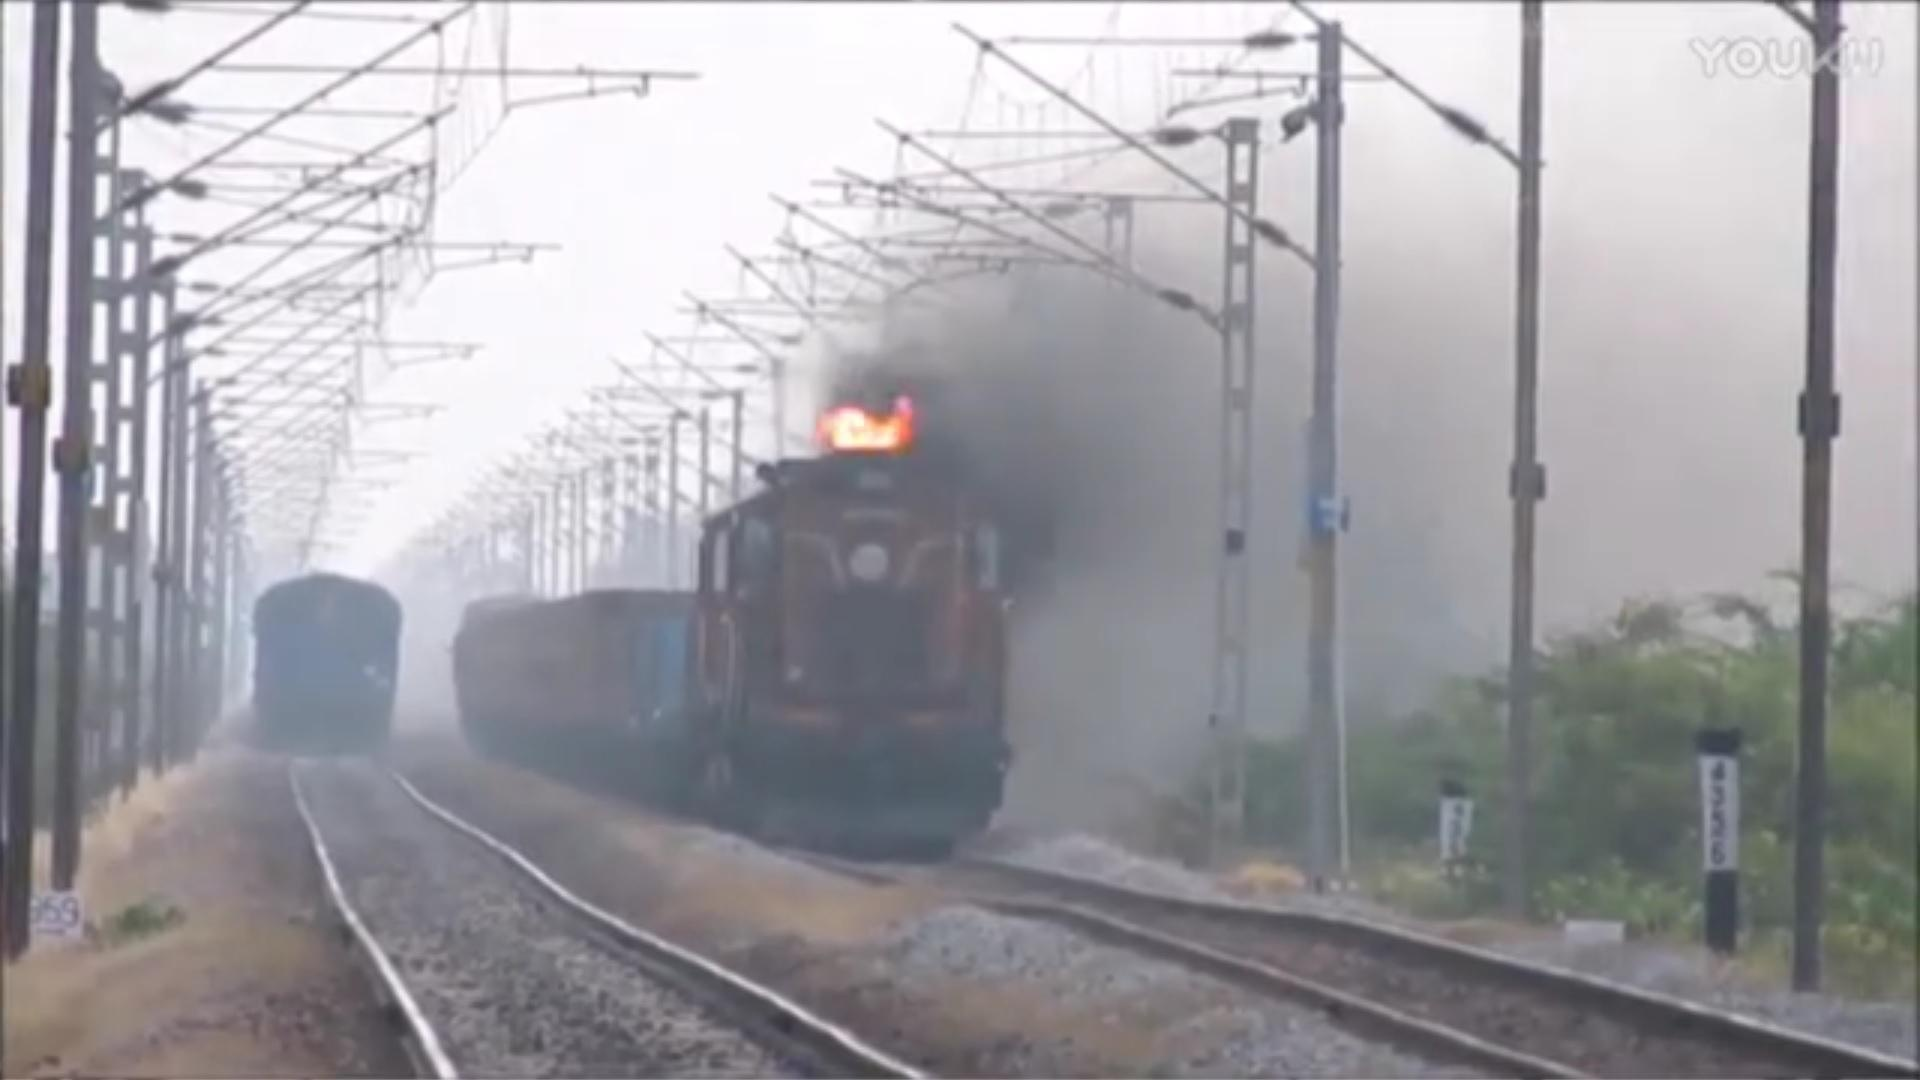fire: (815, 396, 920, 454)
